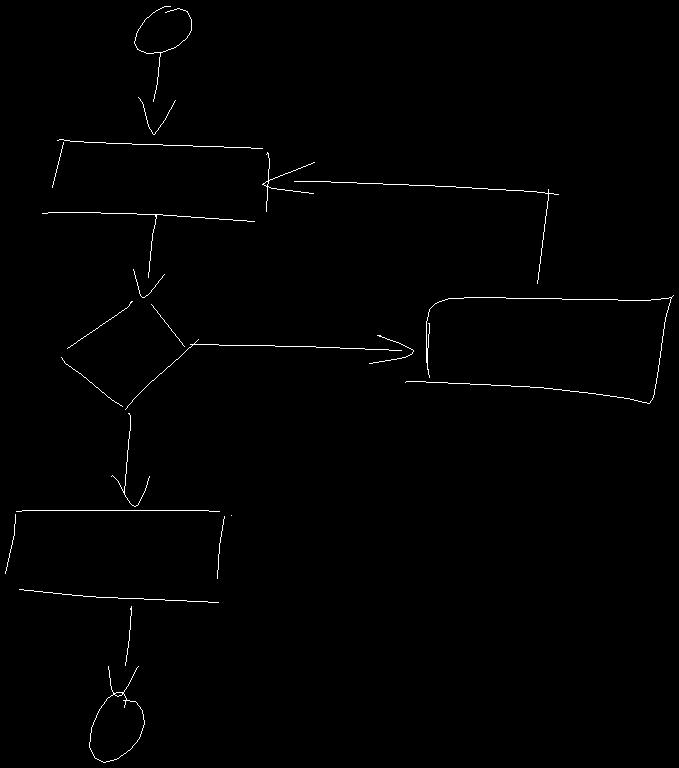arrow: (262, 162, 558, 283), (190, 335, 413, 363), (111, 413, 149, 506), (138, 52, 175, 134), (108, 606, 138, 696), (133, 214, 164, 297)
connection: (89, 692, 144, 762), (134, 6, 191, 53)
decision: (61, 301, 198, 409)
process: (405, 295, 673, 403), (5, 510, 231, 602), (42, 139, 269, 221)
